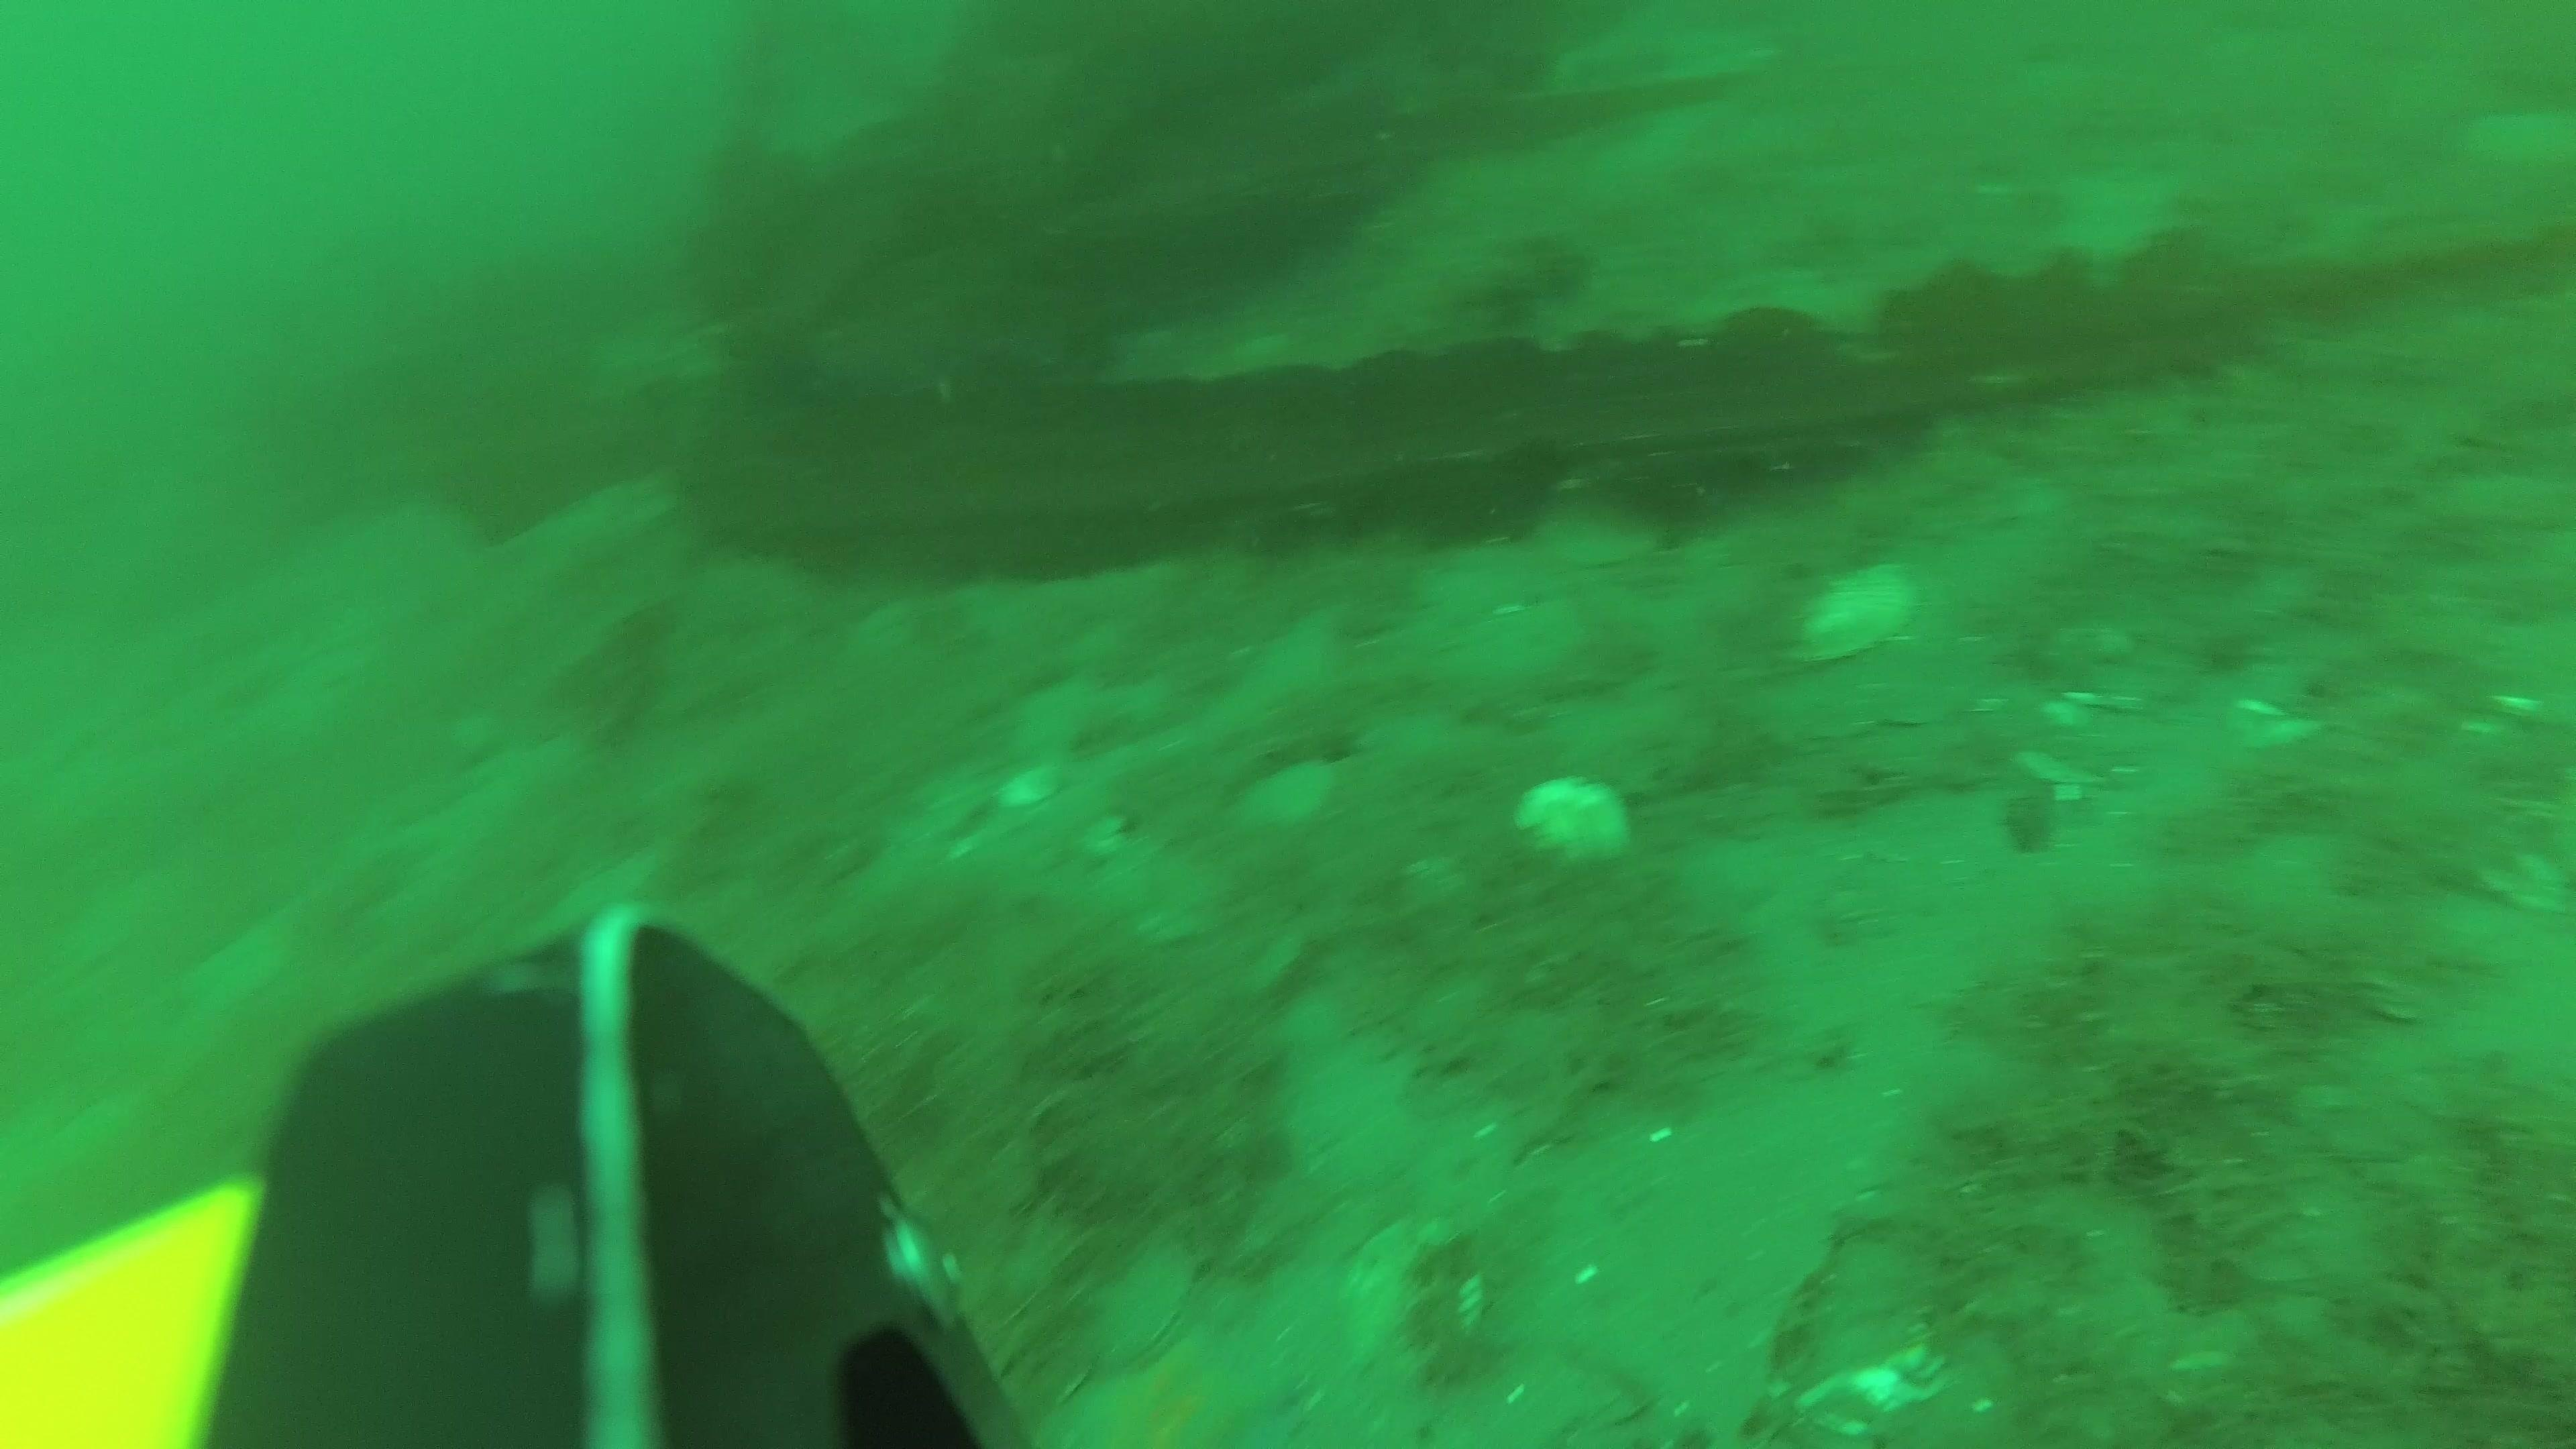scallop: (1044, 1233, 1194, 1378), (1789, 557, 1920, 667), (1513, 773, 1633, 874), (1534, 494, 1661, 577), (1238, 755, 1345, 840)
starfish: (1049, 1327, 1299, 1447)
